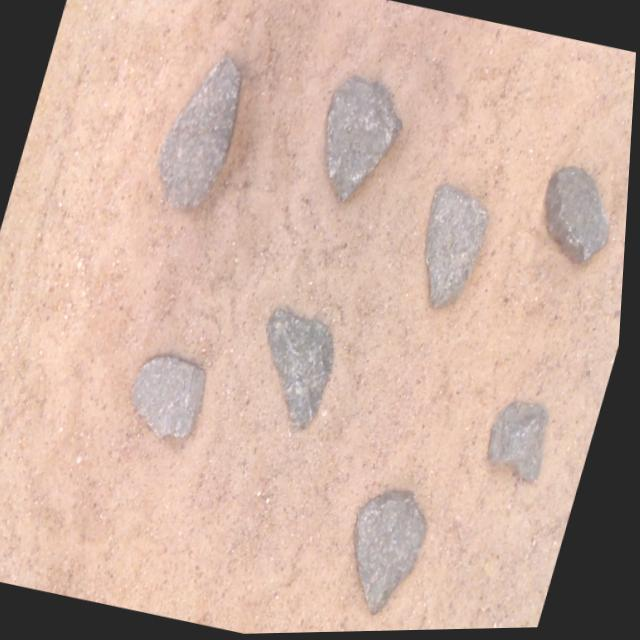rock: (158, 57, 239, 209), (327, 78, 402, 202), (360, 492, 431, 616), (269, 310, 336, 429), (427, 186, 490, 309), (546, 168, 610, 265), (135, 356, 208, 437), (492, 403, 552, 484)
